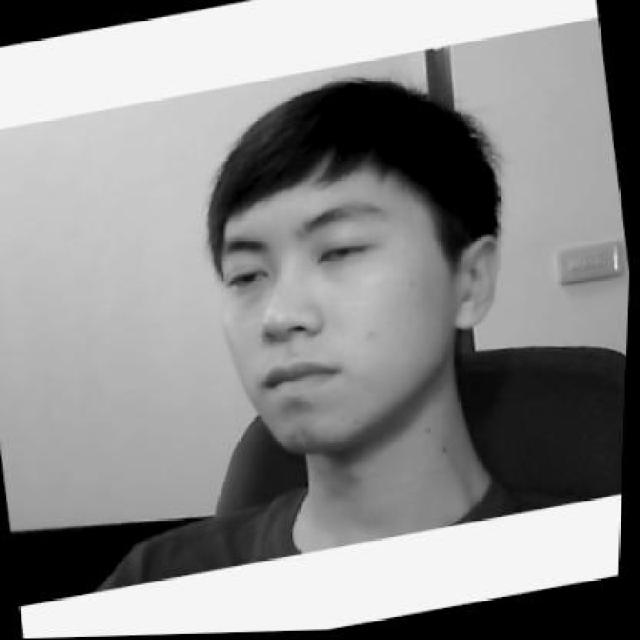inattentif: (183, 51, 534, 471)
